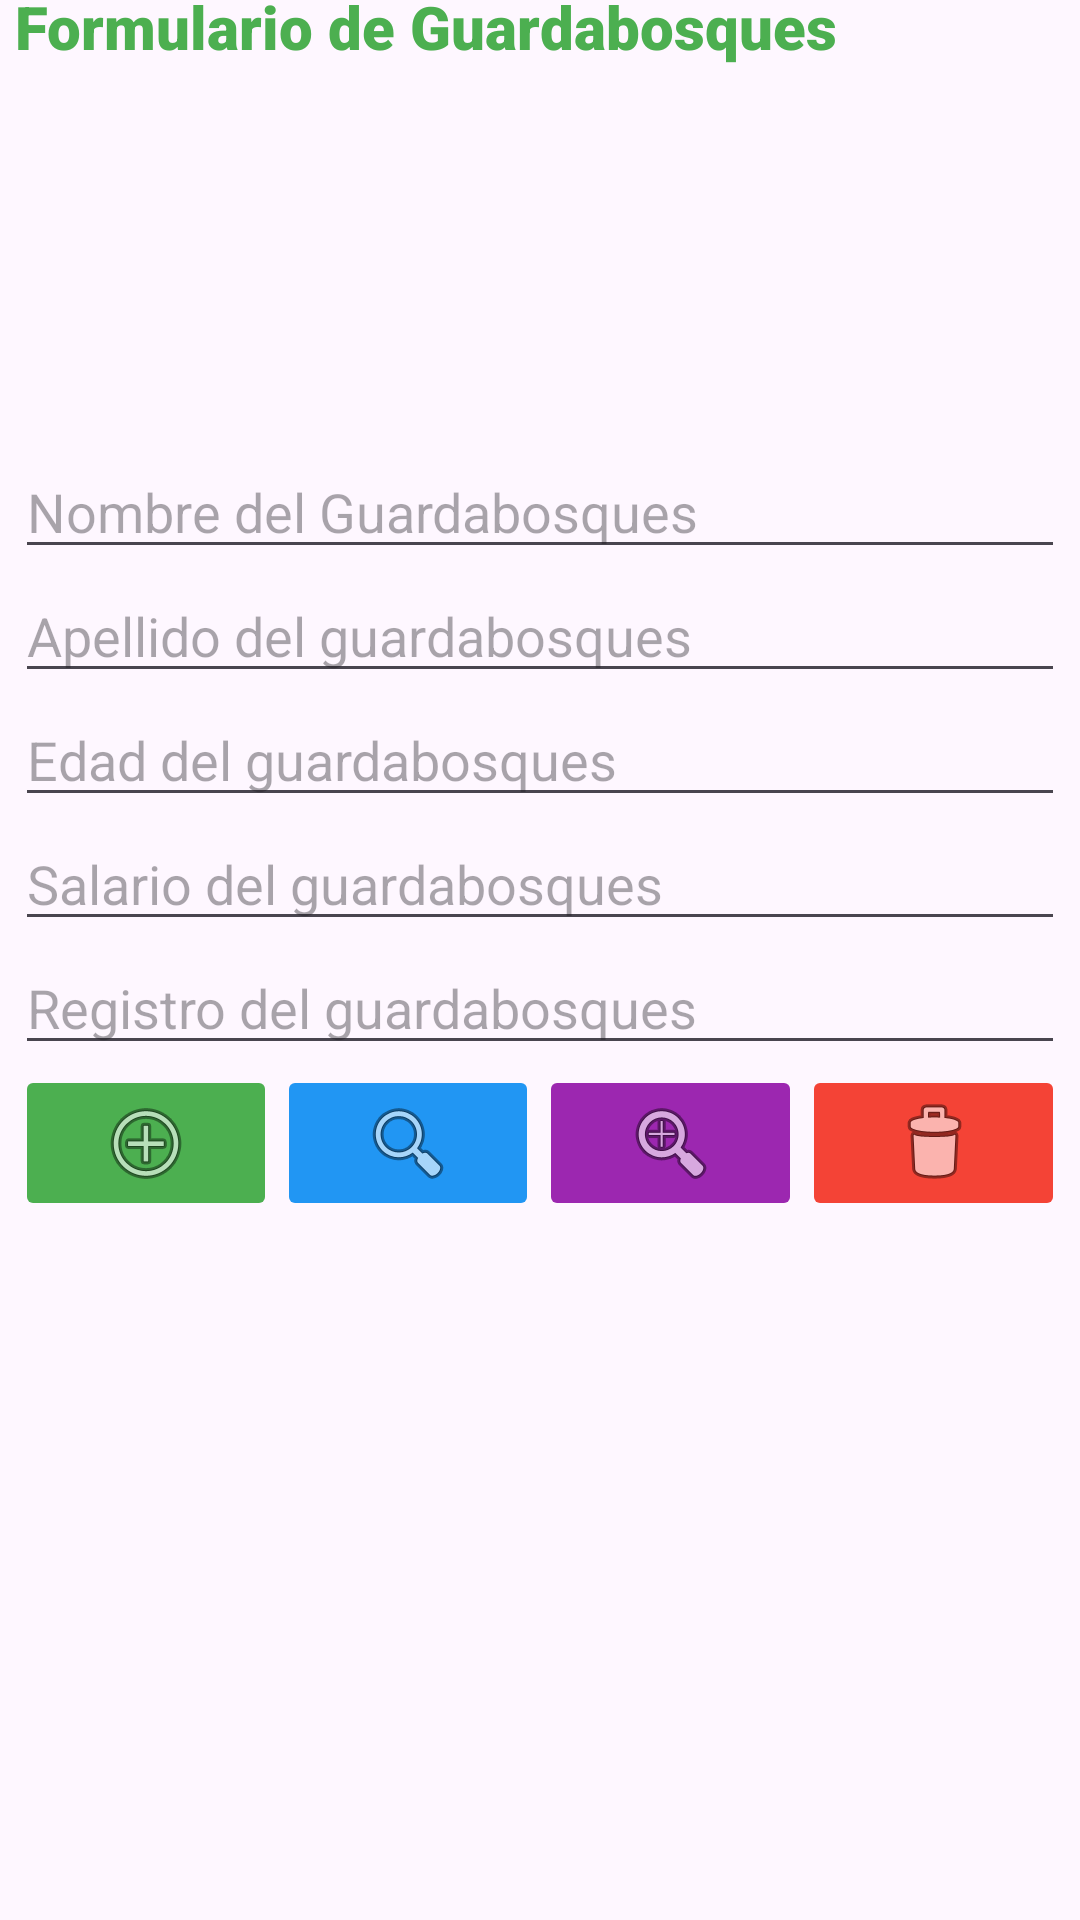

Screen size 1080px×1920px. Icon name, then its box in pixels as (x1, y1, x2, y2):
add: (27, 1083, 265, 1203)
delete: (814, 1083, 1053, 1203)
search: (289, 1083, 527, 1203)
zoom: (551, 1083, 790, 1203)
